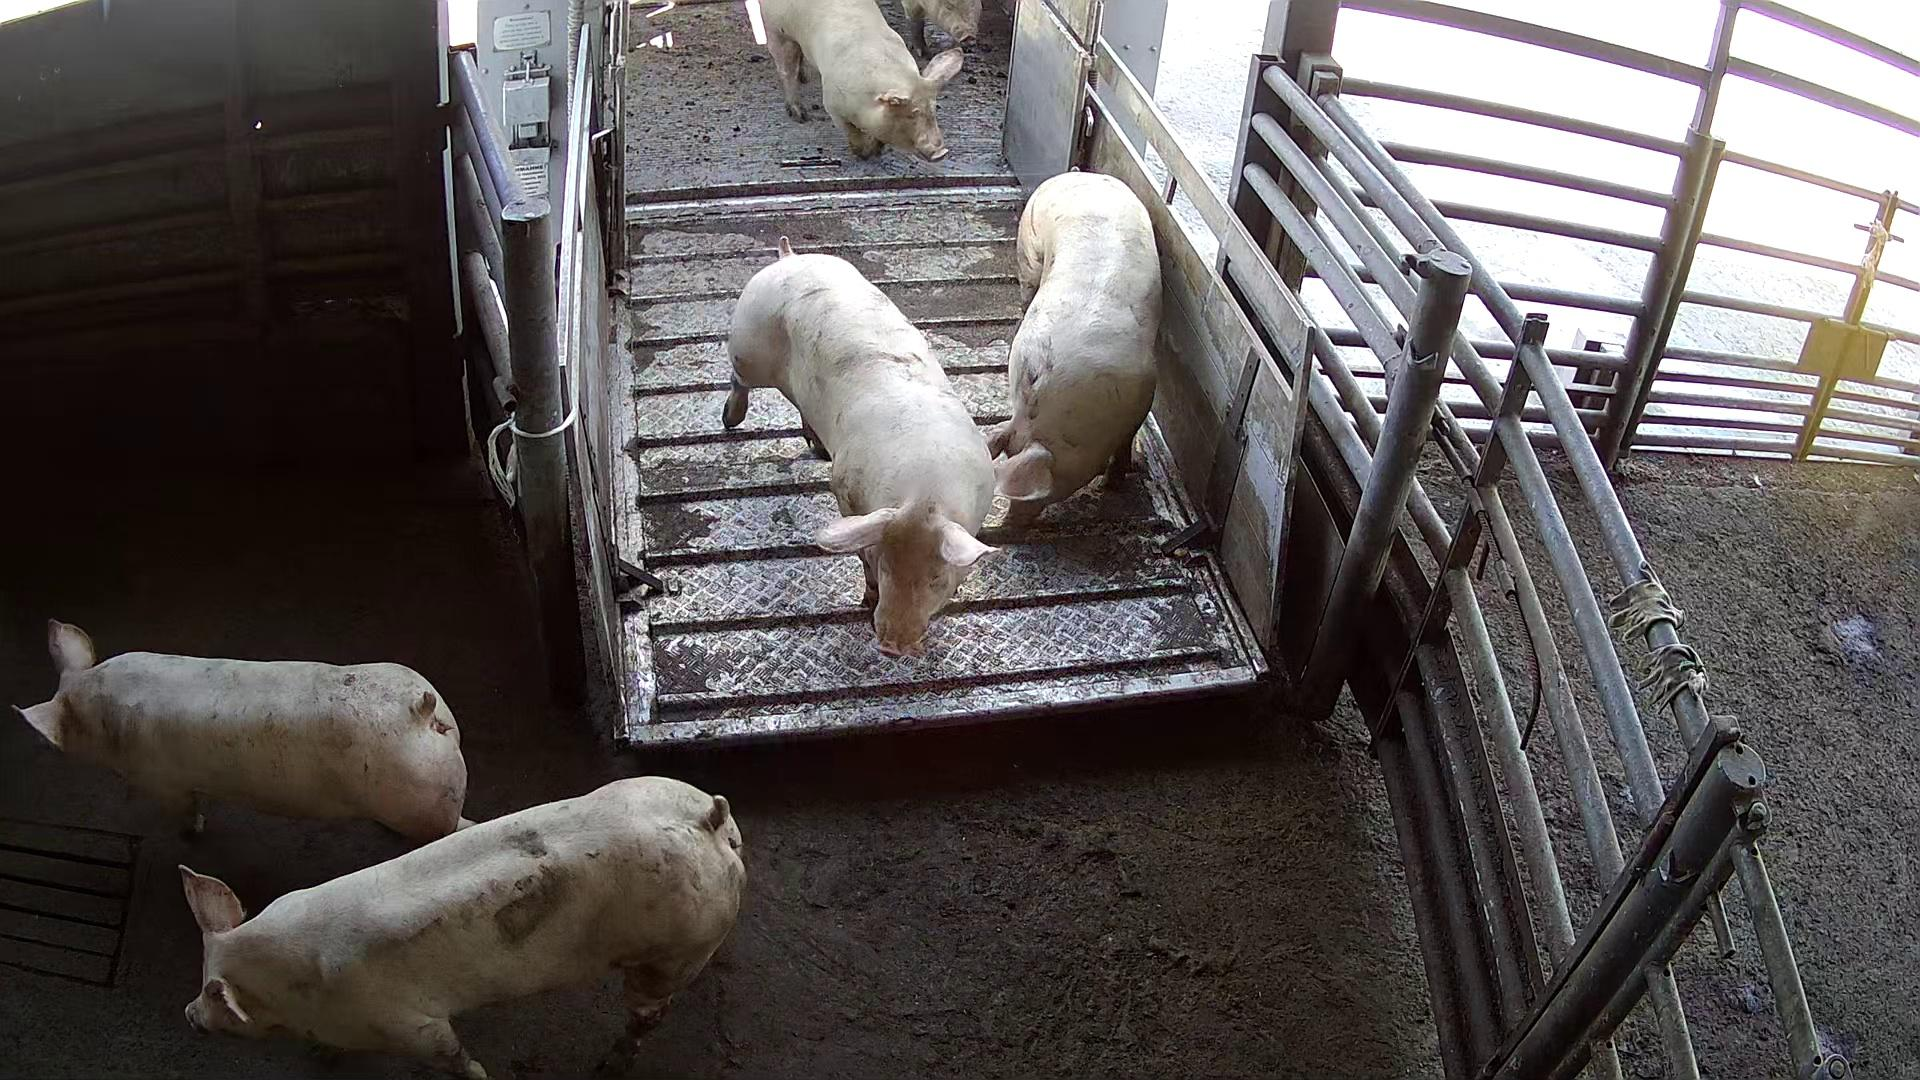Pig: (181, 775, 745, 1077), (723, 235, 998, 655), (18, 621, 465, 844), (986, 169, 1163, 525), (760, 0, 963, 158), (902, 0, 982, 57)
